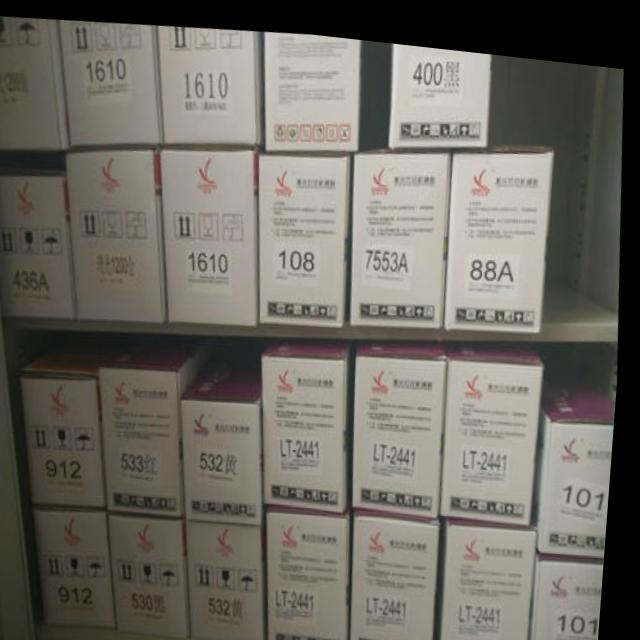box: (450, 132, 557, 321), (105, 339, 217, 509), (69, 145, 172, 320), (449, 331, 549, 511), (165, 143, 263, 320), (355, 143, 454, 318), (359, 332, 451, 506), (261, 148, 354, 319), (265, 332, 357, 503), (543, 362, 620, 547), (27, 347, 117, 503), (188, 356, 271, 516), (60, 20, 167, 144), (0, 165, 84, 321), (449, 506, 545, 640), (158, 22, 264, 142), (361, 503, 447, 640), (274, 505, 361, 640), (263, 26, 361, 143), (390, 34, 490, 139), (194, 516, 275, 639), (40, 509, 125, 623), (118, 512, 197, 633), (0, 18, 72, 150), (541, 548, 611, 640)
